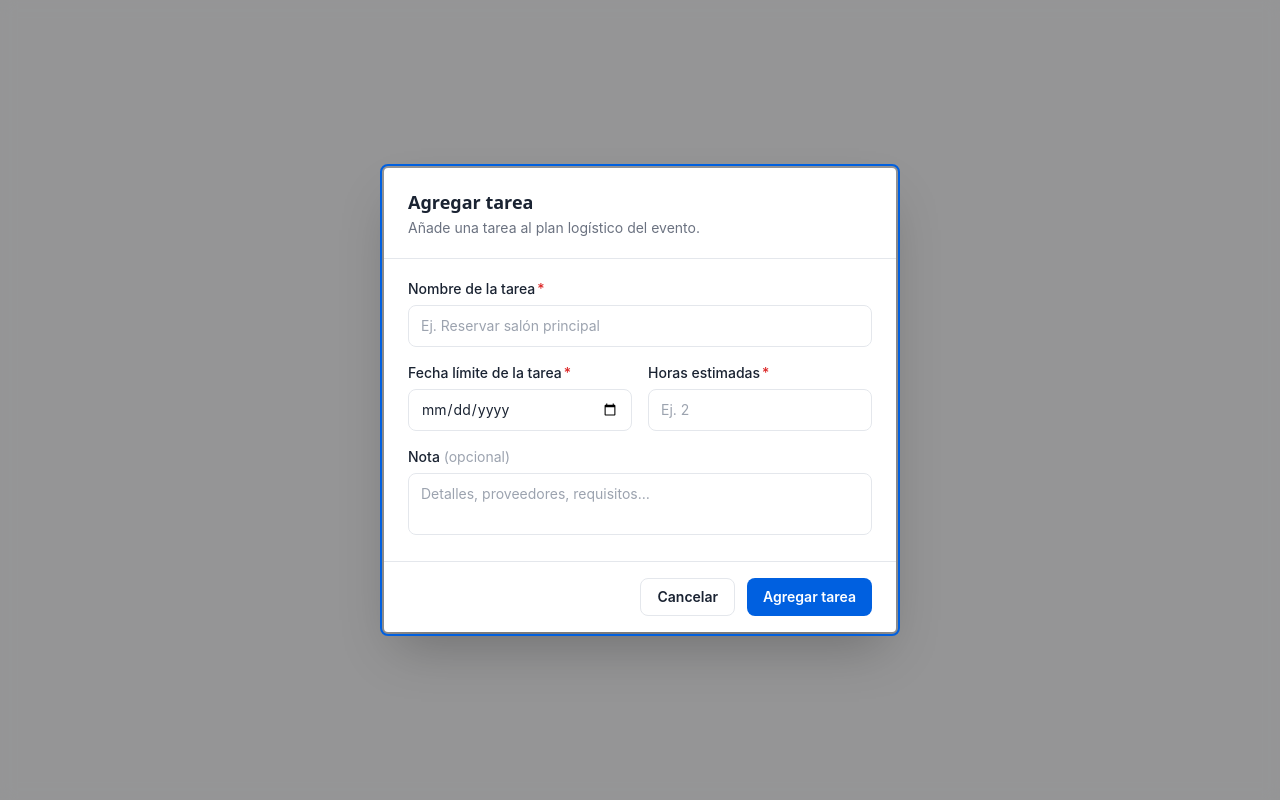
Test: TaskFormModal › validates missing data and saves normalized task details
The image size is (1280, 800).
Later steps or results of the test are not shown.
What coordinates should you click on to do the following:
click the button "Agregar tarea"
I would click on:
 (810, 597)
Its box is [747, 578, 872, 616].
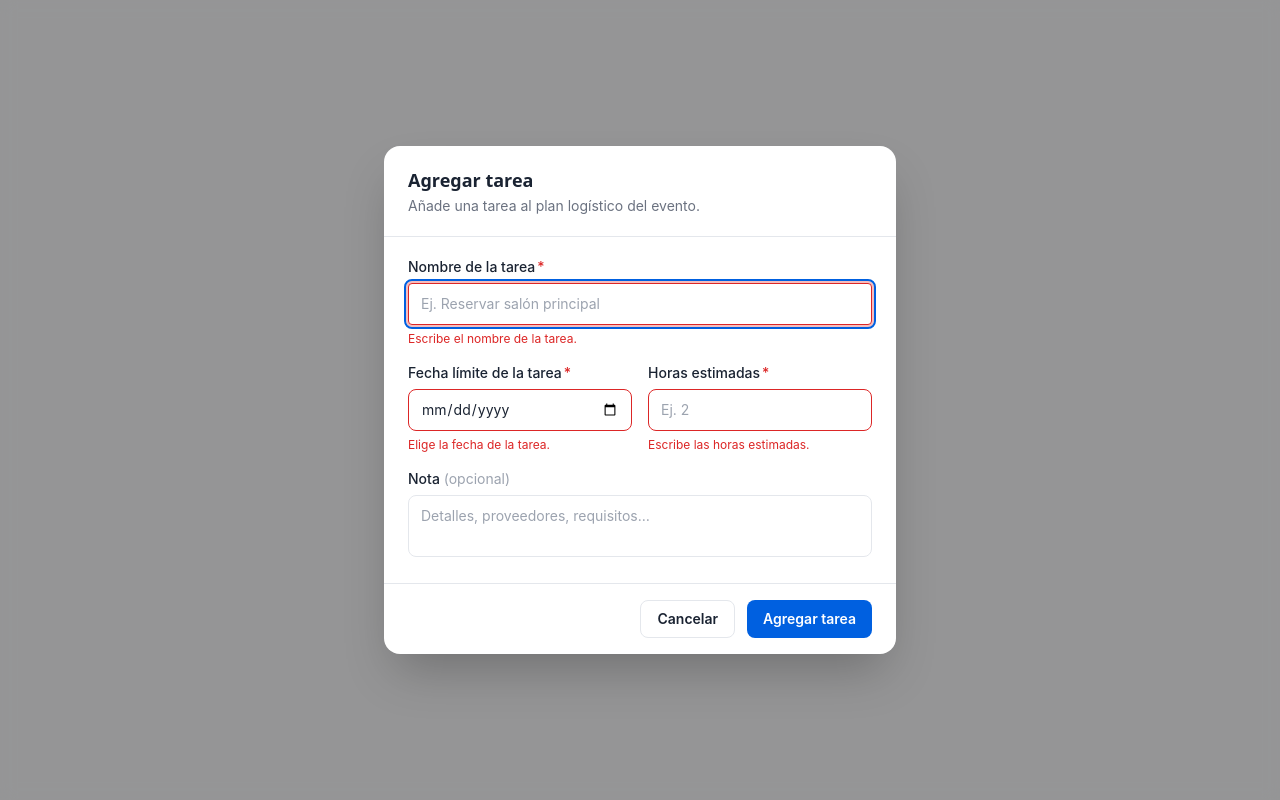
Expected: the text "Escribe el nombre de la tarea." is shown, [408, 331, 577, 346]
